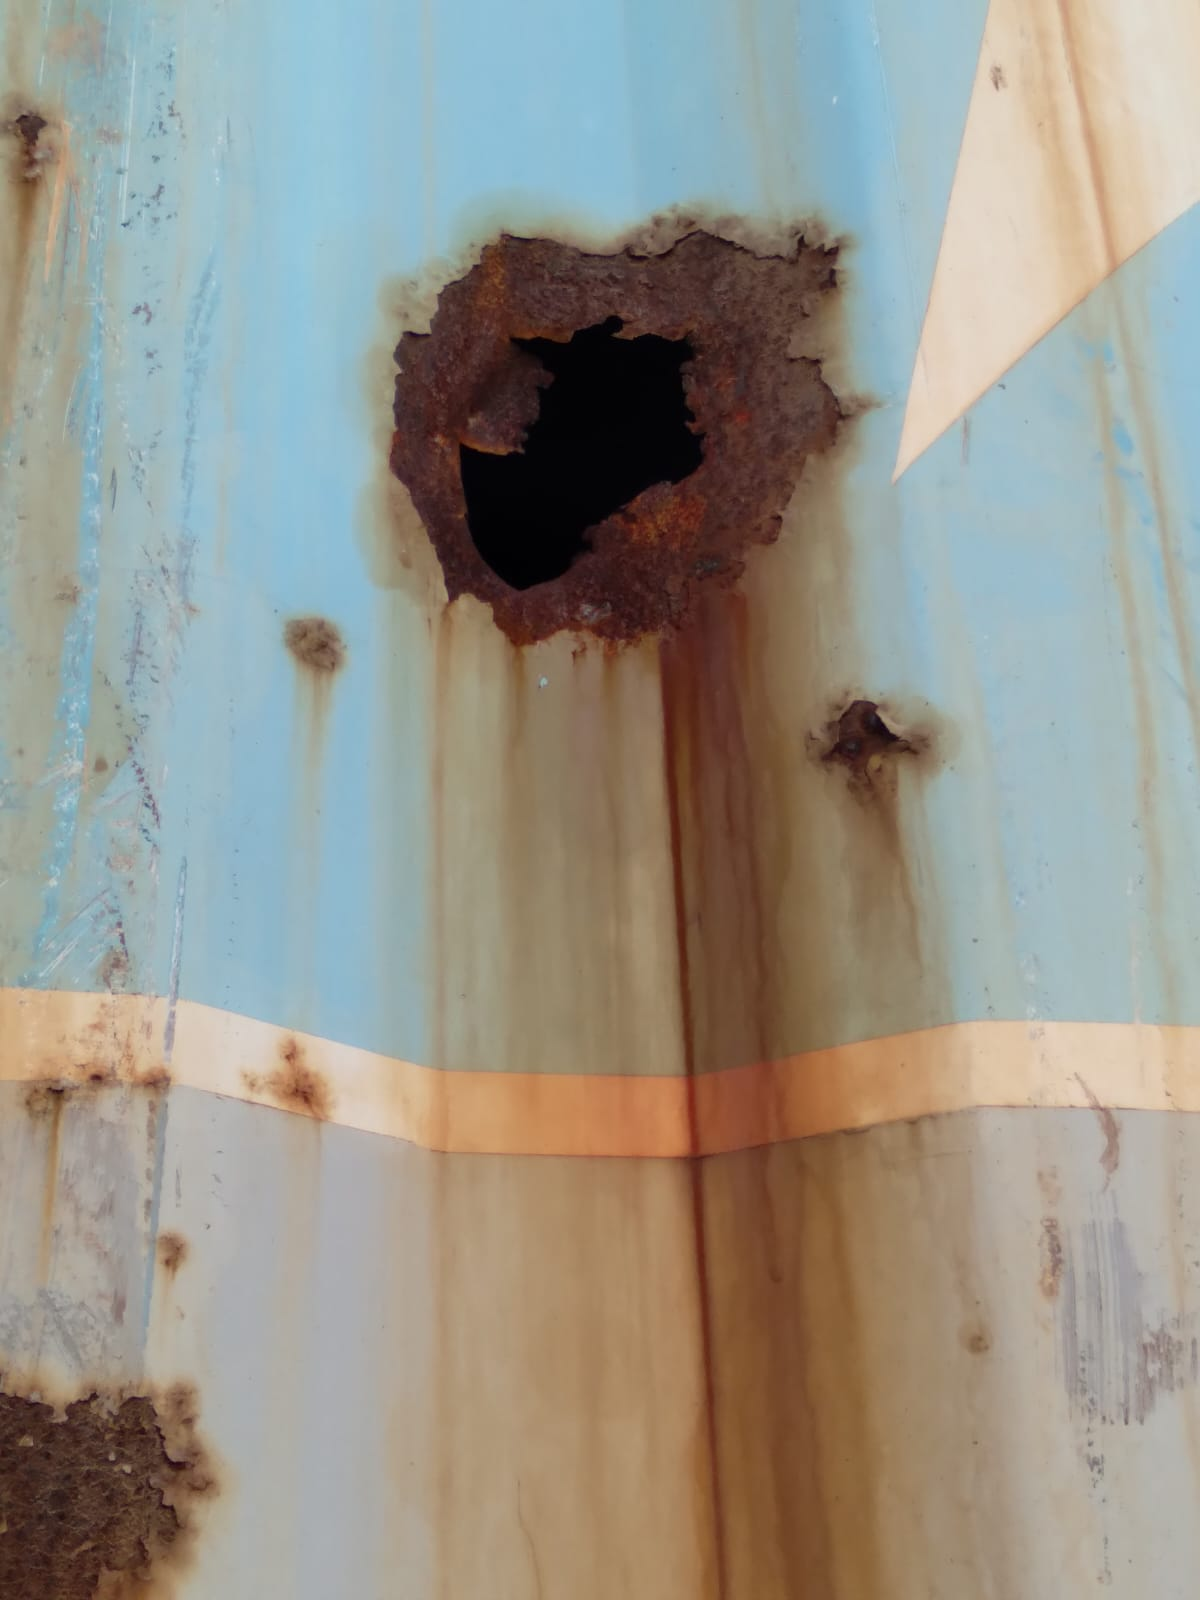cut: (339, 174, 892, 659)
rust: (1, 1335, 246, 1600), (756, 690, 950, 821)
